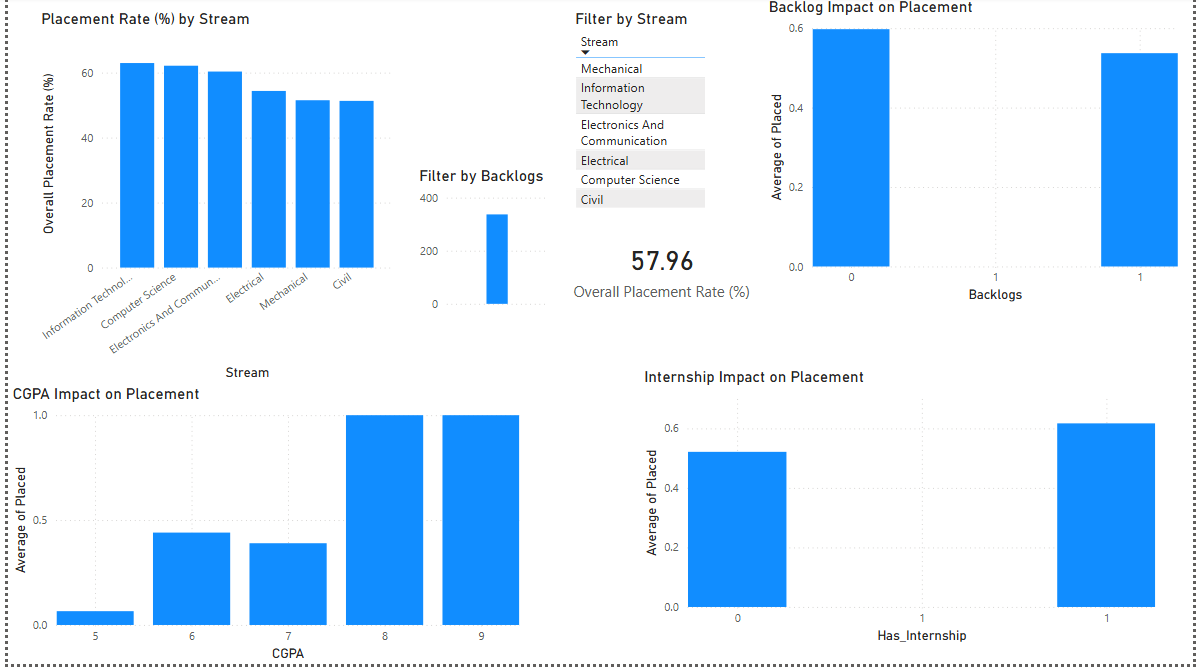

The dashboard page shown, as its layout file describes it:
{"tool":"powerbi","page":{"name":"Page 1","canvas":[1280,720],"ordinal":0},"visuals":[{"type":"card","fields":{"Values":["placement_cleaned.Overall Placement Rate (%)"]},"box":[557,168.4,296.3,249.4],"z":0},{"type":"clusteredColumnChart","title":"Internship Impact on Placement","fields":{"Category":["placement_cleaned.Has_Internship"],"Y":["Avg(placement_cleaned.Placed)"]},"box":[681.7,399.9,561.9,301.2],"z":1},{"type":"clusteredColumnChart","title":"Placement Rate (%) by Stream","fields":{"Category":["placement_cleaned.Stream"],"Y":["placement_cleaned.Overall Placement Rate (%)"]},"box":[30.8,13,388.6,404.8],"z":2},{"type":"clusteredColumnChart","title":"Backlog Impact on Placement","fields":{"Category":["placement_cleaned.Backlogs"],"Y":["Avg(placement_cleaned.Placed)"]},"box":[816.1,0,451.8,333.6],"z":4},{"type":"tableEx","title":"Filter by Stream","fields":{"Values":["placement_cleaned.Stream"]},"box":[607.2,13,150.6,249.4],"z":7},{"type":"clusteredColumnChart","title":"CGPA Impact on Placement","fields":{"Category":["placement_cleaned.CGPA"],"Y":["Avg(placement_cleaned.Placed)"]},"box":[0,417.8,557,302.8],"z":8},{"type":"clusteredColumnChart","title":"Filter by Backlogs","fields":{"Y":["Sum(placement_cleaned.Backlogs)"]},"box":[438.8,183,149,161.9],"z":9}]}

Visuals, with their boxes in screenshot pixels (x1, y1, x2, y2), scaled from the page's 1280x720 canvas onto the 1199x672 screenshot:
card - placement_cleaned.Overall Placement Rate (%): [522, 157, 799, 390]
"Internship Impact on Placement" clusteredColumnChart: [639, 373, 1165, 654]
"Placement Rate (%) by Stream" clusteredColumnChart: [29, 12, 393, 390]
"Backlog Impact on Placement" clusteredColumnChart: [764, 0, 1188, 311]
"Filter by Stream" tableEx: [569, 12, 710, 245]
"CGPA Impact on Placement" clusteredColumnChart: [0, 390, 522, 671]
"Filter by Backlogs" clusteredColumnChart: [411, 171, 551, 322]
